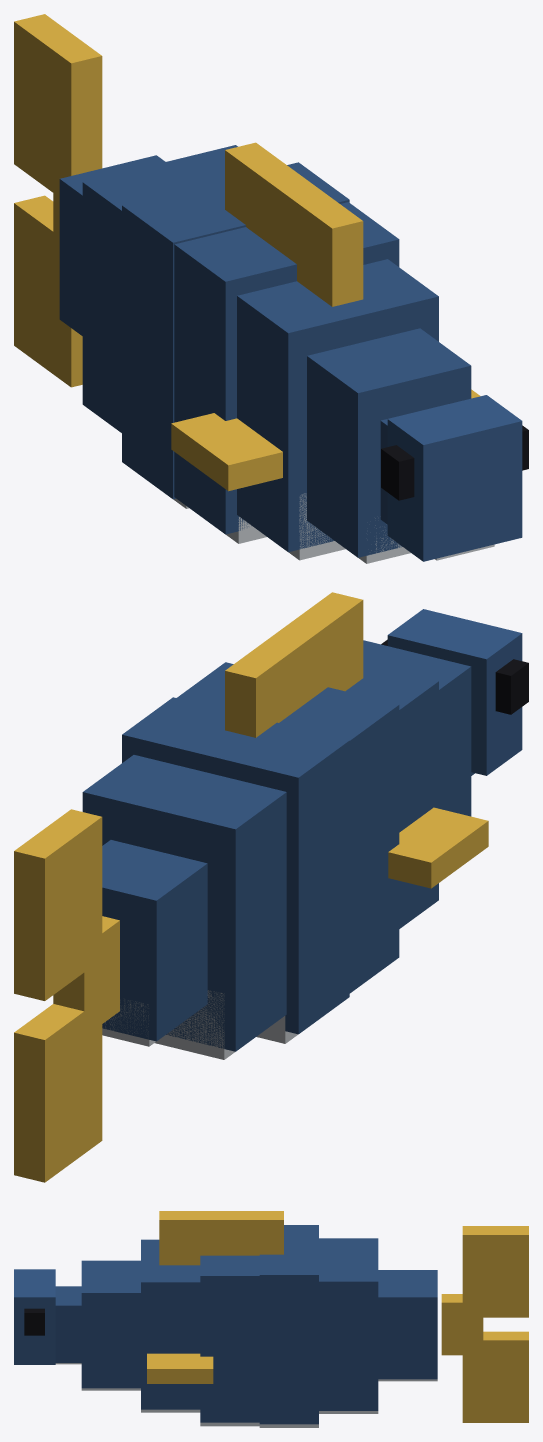
File: BluefinTuna.obj
The picture shows the model from 3 angles, top to bottom: view 1: azimuth 30°, elevation 25°; view 2: azimuth 150°, elevation 25°; view 3: azimuth 270°, elevation 25°; orthographic projection. The views are drawn at different scales.
Parts seen in each view (by area): view 1: BluefinTuna; view 2: BluefinTuna; view 3: BluefinTuna.
Boxes of the visible parts, x1,y1,x2,y2 form: BluefinTuna: (14,14,528,563); BluefinTuna: (14,592,528,1182); BluefinTuna: (14,1211,528,1427).
Bounding box in the file's own units: 0.42 × 0.54 × 1.24.
Materials: 1 (1 with a texture image).
